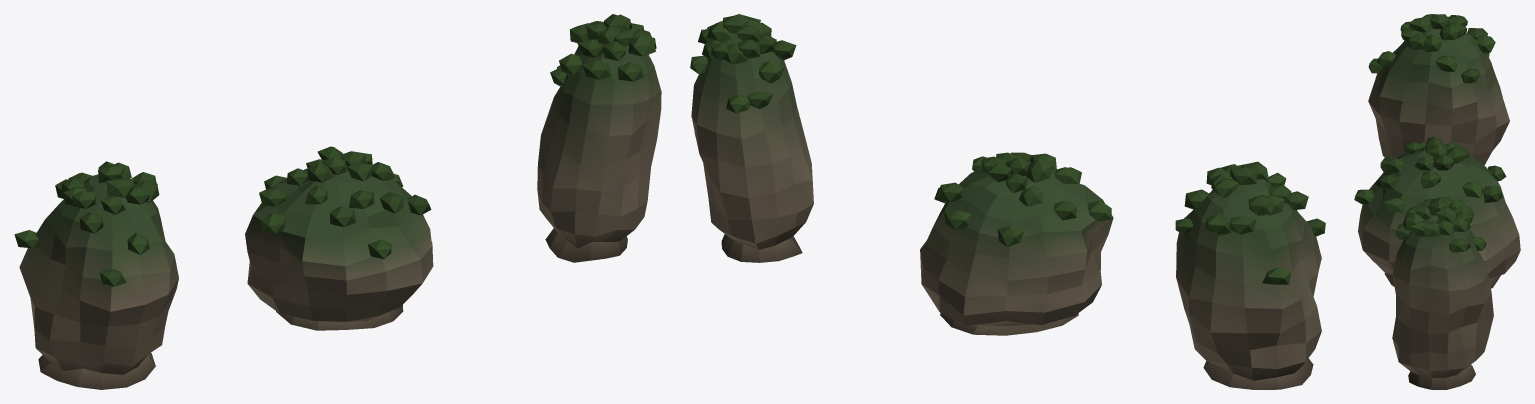
File: nui_da_voi.glb
The picture shows the model from 3 angles, left to right: view 1: azimuth 30°, elevation 25°; view 2: azimuth 150°, elevation 25°; view 3: azimuth 270°, elevation 25°; orthographic projection. The views are drawn at different scales.
Parts seen in each view (by area): view 1: da_voi_0, da_voi_1, da_voi_2, da_voi_1_cay, da_voi_0_cay, da_voi_2_cay; view 2: da_voi_1, da_voi_0, da_voi_2, da_voi_1_cay, da_voi_0_cay, da_voi_2_cay; view 3: da_voi_2, da_voi_0, da_voi_1, da_voi_1_cay, da_voi_0_cay, da_voi_2_cay.
Boxes of the visible parts, x1=… form: da_voi_0: x1=19, y1=174, x2=178, y2=389; da_voi_1: x1=245, y1=168, x2=433, y2=330; da_voi_2: x1=537, y1=39, x2=661, y2=262; da_voi_1_cay: x1=259, y1=146, x2=431, y2=259; da_voi_0_cay: x1=14, y1=161, x2=159, y2=286; da_voi_2_cay: x1=550, y1=14, x2=656, y2=86; da_voi_1: x1=920, y1=168, x2=1113, y2=335; da_voi_0: x1=1176, y1=179, x2=1321, y2=389; da_voi_2: x1=691, y1=33, x2=813, y2=262; da_voi_1_cay: x1=934, y1=152, x2=1111, y2=246; da_voi_0_cay: x1=1175, y1=161, x2=1325, y2=284; da_voi_2_cay: x1=690, y1=14, x2=796, y2=113; da_voi_2: x1=1392, y1=215, x2=1493, y2=389; da_voi_0: x1=1368, y1=20, x2=1509, y2=165; da_voi_1: x1=1358, y1=150, x2=1520, y2=288; da_voi_1_cay: x1=1354, y1=136, x2=1506, y2=212; da_voi_0_cay: x1=1368, y1=14, x2=1495, y2=83; da_voi_2_cay: x1=1395, y1=196, x2=1486, y2=252.
Size of the model in its own units: 3.48 by 1.23 by 0.9761.
